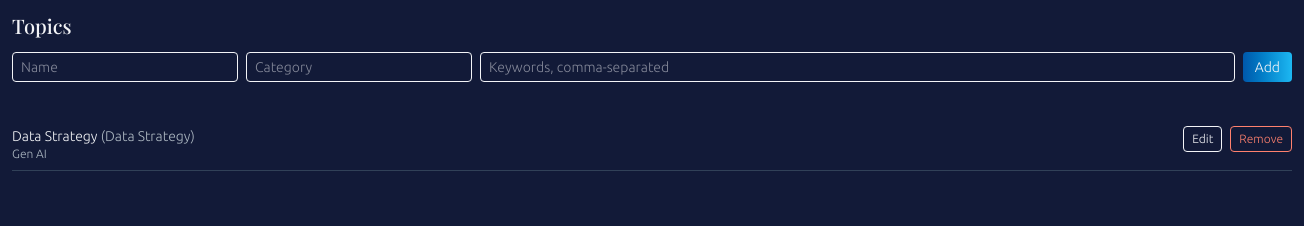
Test: TopicsPage › shows the specific rejected field(s) when an edit is invalid, and does not close the edit form
The width and height of the screenshot is (1304, 226).
Expected: the text "Data Strategy" is shown, [12,128,98,144]
Click the button "Edit": (1203, 139) [1183,126,1222,152]
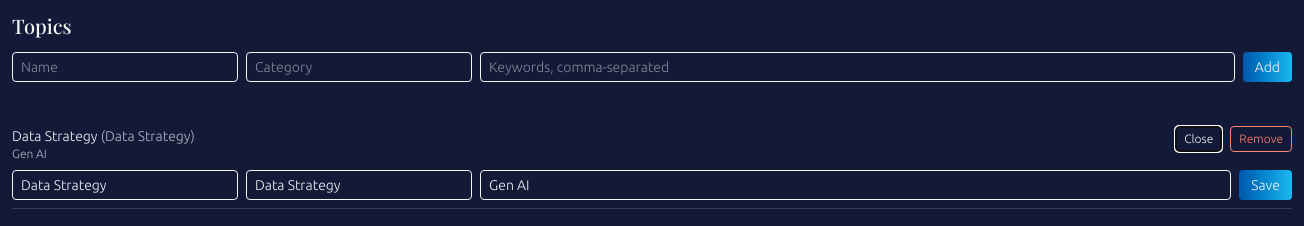
Click the button "Save": (1266, 185) [1239,170,1292,200]
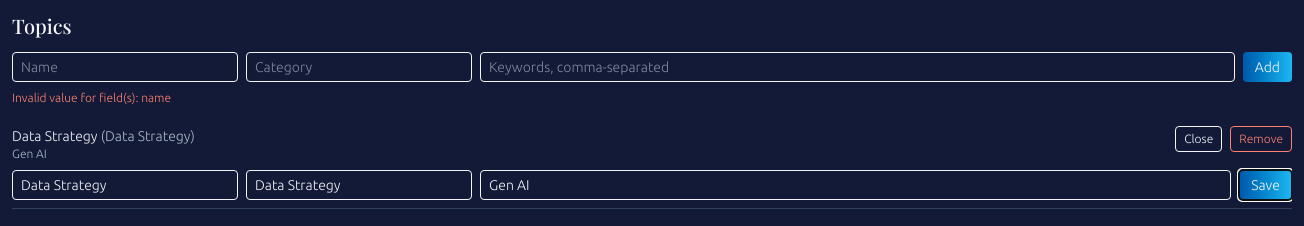
Expected: the button "Save" is shown, [1239,170,1292,200]
Expected: the text "Invalid value for field(s): name" is shown, [12,91,171,104]
